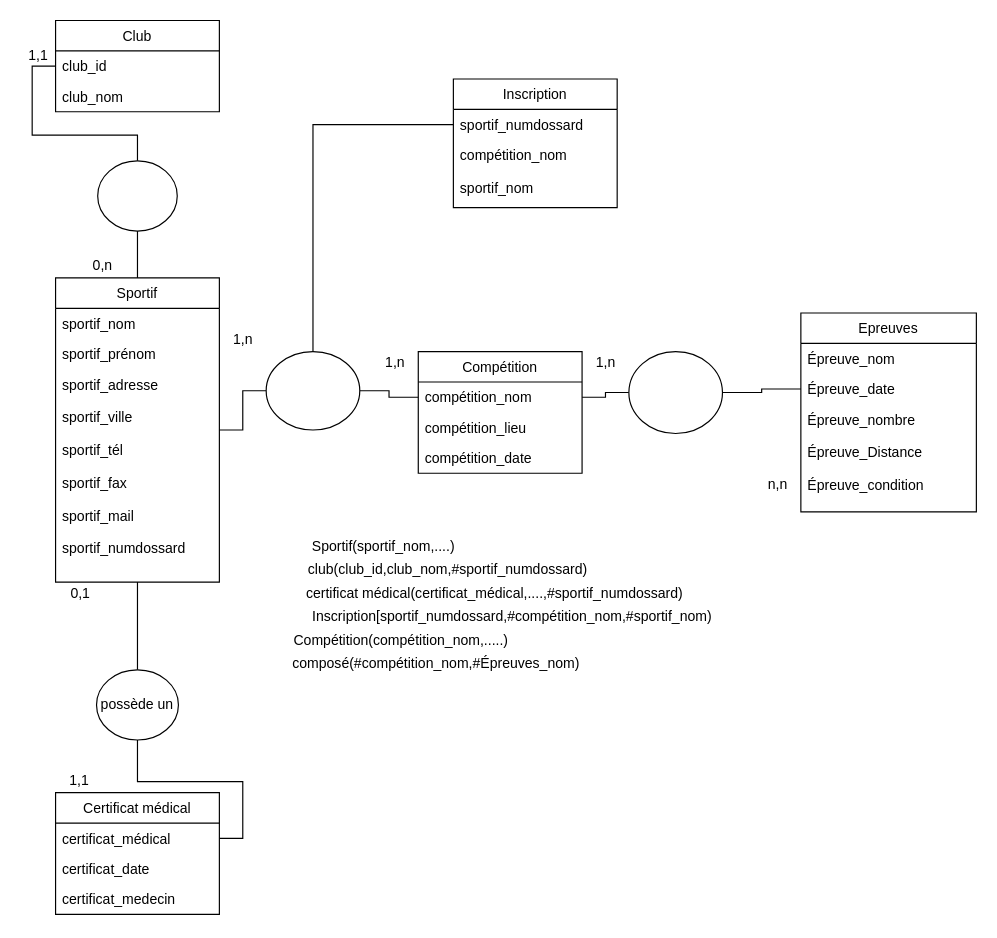
This 997x938 diagram has some shape labels left out. The centre of each missing label's shape, as x and y in pixels:
"composé" goes at (x=675, y=391).
"fait partit" goes at (x=137, y=195).
"s'inscrit" goes at (x=312, y=390).
